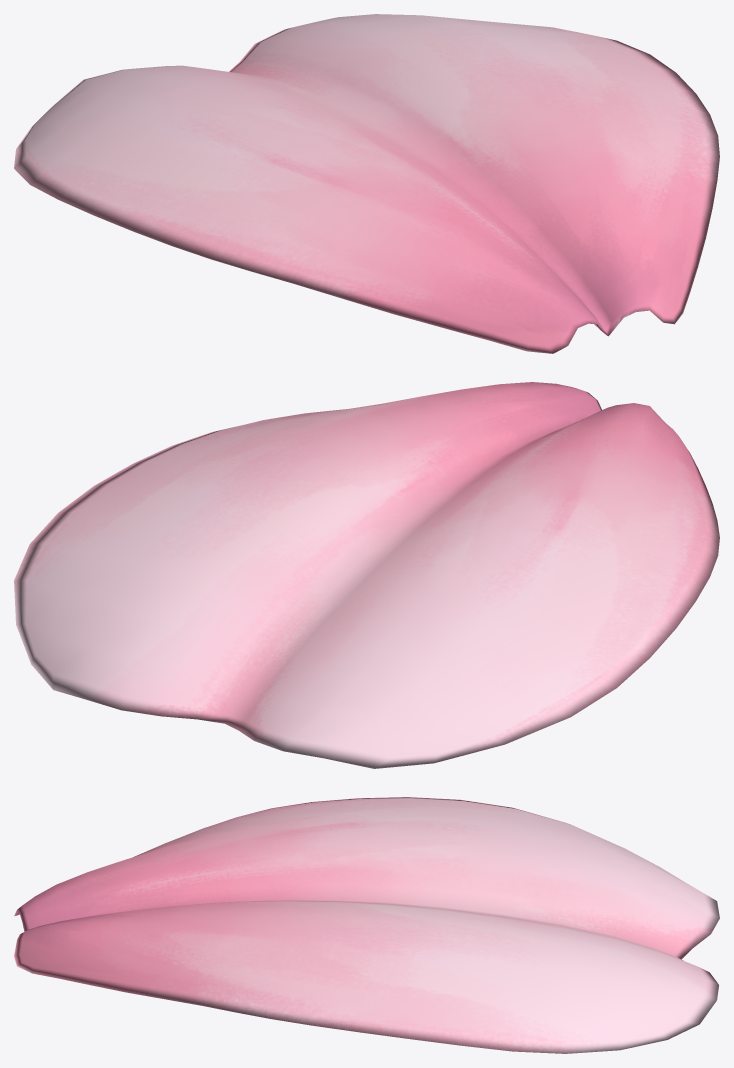
Rendered from pétaleanim.fbx.
3 views of the same model, one above another, from view 1: azimuth 30°, elevation 25°; view 2: azimuth 150°, elevation 25°; view 3: azimuth 270°, elevation 25° (orthographic). The views are drawn at different scales.
Parts seen in each view (by area): view 1: Plane003; view 2: Plane003; view 3: Plane003.
Part boxes in pixels (x1,y1,x2,y2): Plane003: (14, 14, 719, 353); Plane003: (14, 382, 719, 768); Plane003: (14, 797, 719, 1053).
Bounding box in the file's own units: 0.5261 × 0.0795 × 0.6367.
